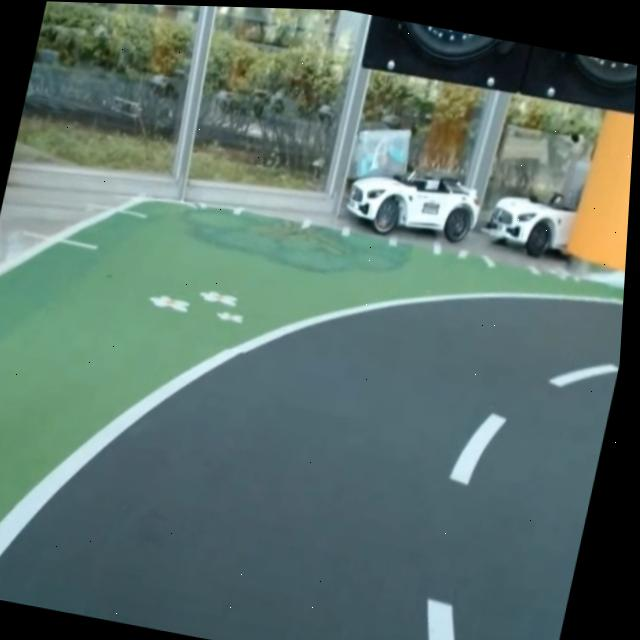traffic-light: (351, 14, 640, 126)
